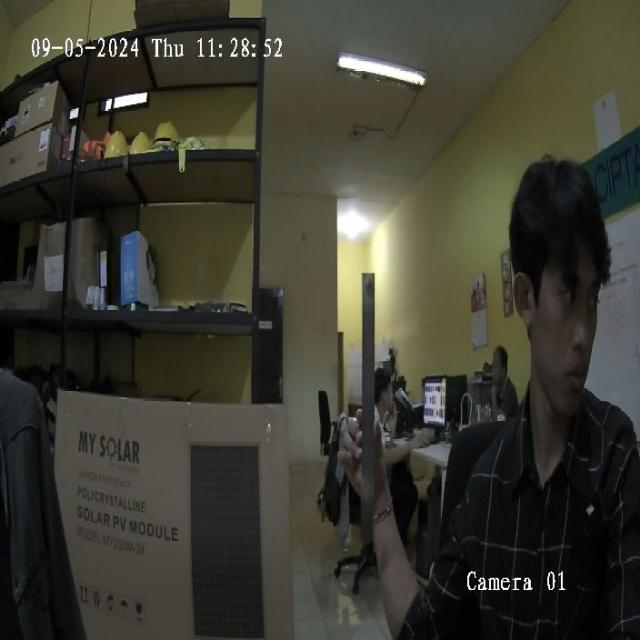Ruler: (361, 274, 375, 545)
